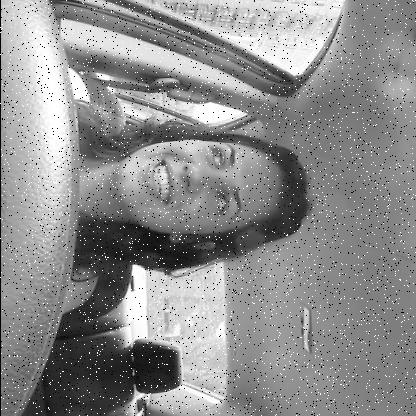no_seatbelt: (65, 64, 336, 270)
